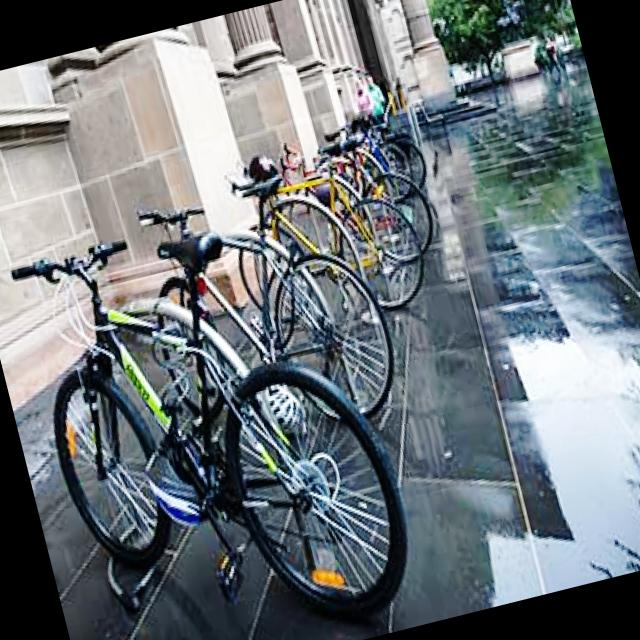bike: (5, 182, 428, 640), (123, 156, 410, 463), (210, 120, 436, 344)
